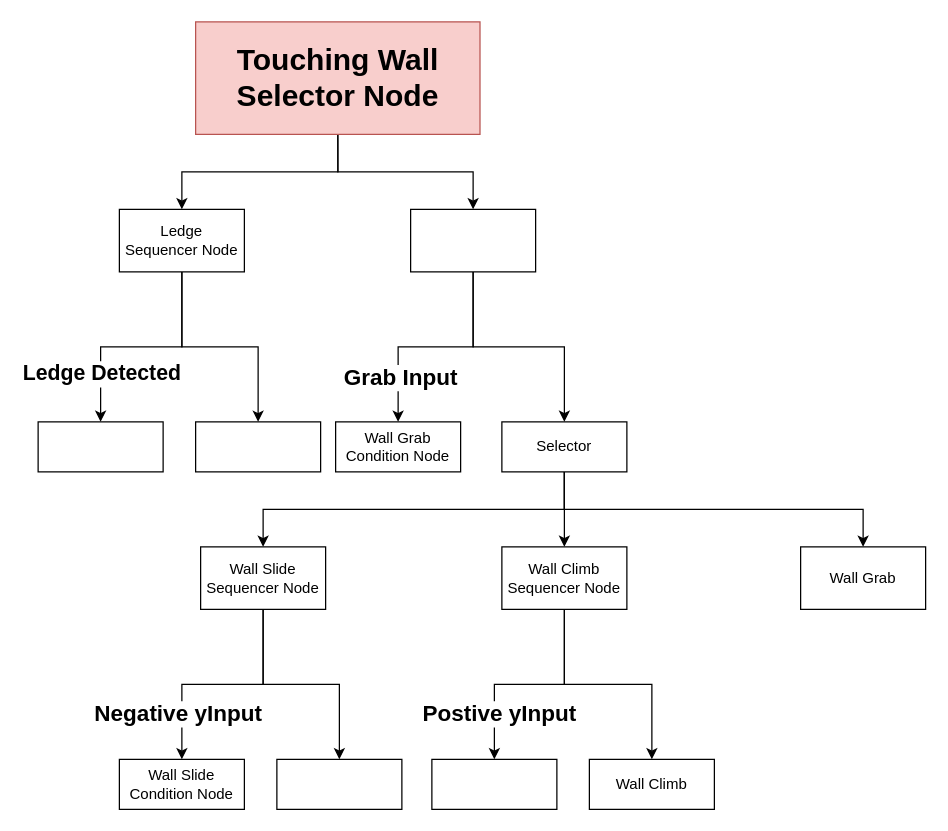
This 948x831 diagram has some shape labels left out. The shapes that lost their labels are listed below. From the top down, each one's centre as x and y in pixels, then its label:
(472,240): Wall Grab Sequencer Node
(100,446): Ledge Condition Node
(257,446): Ledge Climb
(339,783): Wall Slide
(494,783): Wall Climb Condition Node
